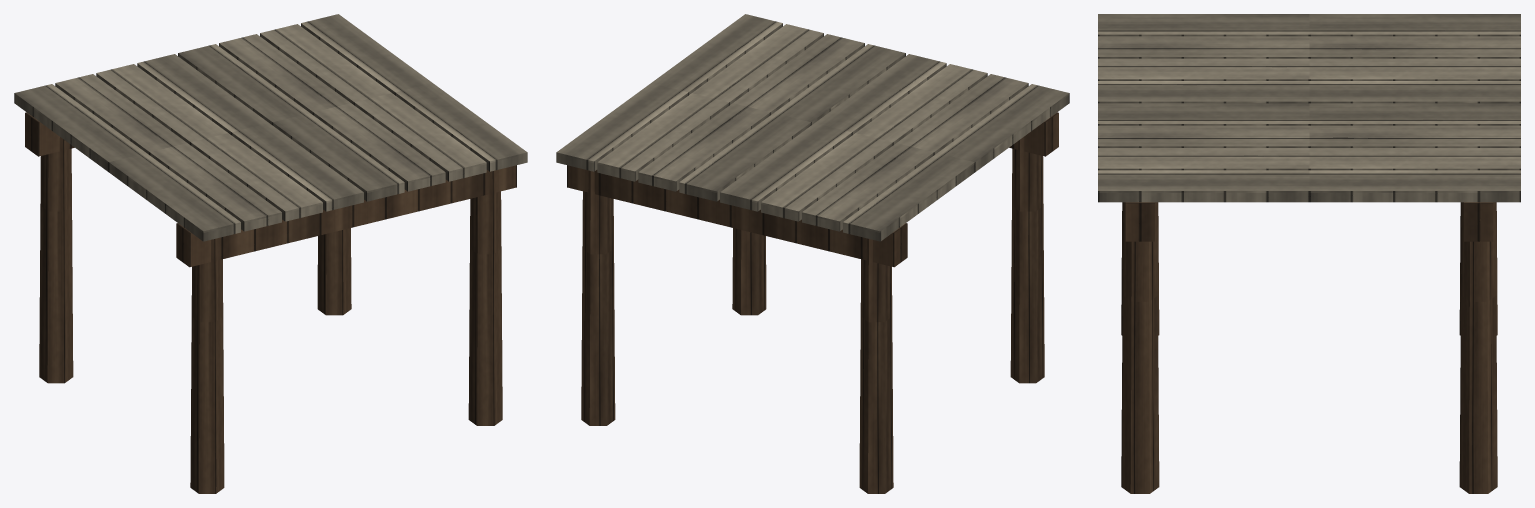
File: Boardwalk_Deck_1.gltf
The picture shows the model from 3 angles, left to right: view 1: azimuth 30°, elevation 25°; view 2: azimuth 150°, elevation 25°; view 3: azimuth 270°, elevation 25°; orthographic projection. The views are drawn at different scales.
Parts seen in each view (by area): view 1: Boardwalk_Deck_1; view 2: Boardwalk_Deck_1; view 3: Boardwalk_Deck_1.
Boxes of the visible parts, x1=… form: Boardwalk_Deck_1: x1=14, y1=14, x2=527, y2=493; Boardwalk_Deck_1: x1=556, y1=14, x2=1069, y2=493; Boardwalk_Deck_1: x1=1098, y1=14, x2=1520, y2=493.
Bounding box in the file's own units: 2 × 1.61 × 2.
2 materials, 2 textured.
